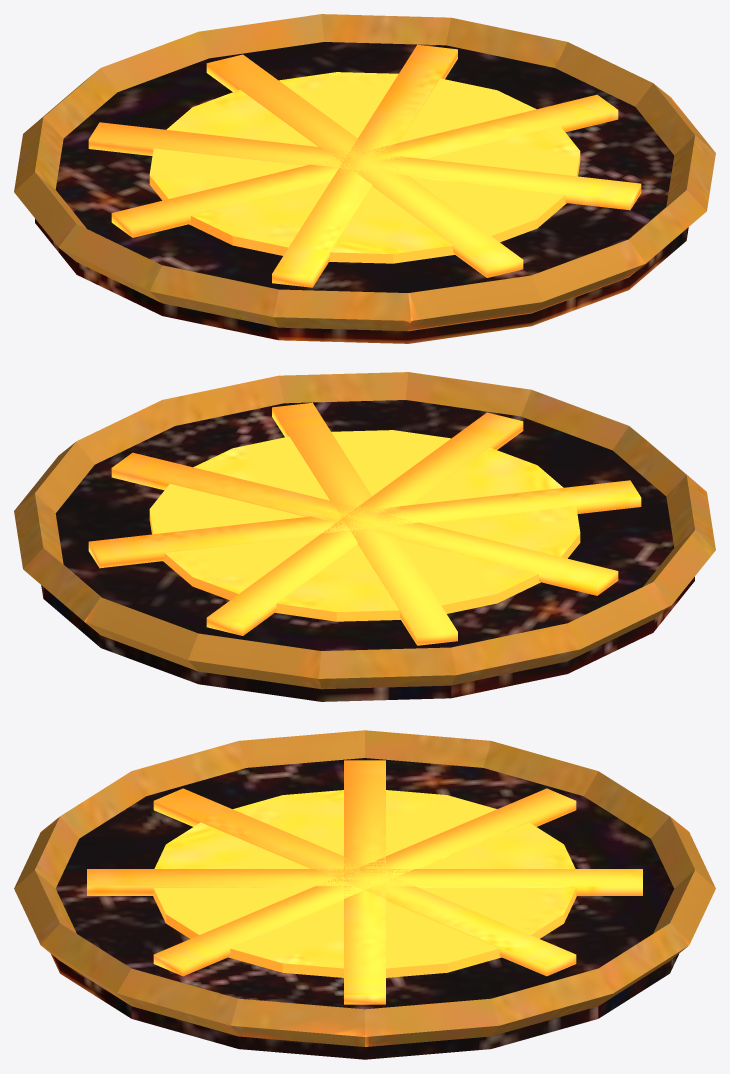
The model's file is pad_fire.glb.
3 renders of one model, top to bottom at view 1: azimuth 30°, elevation 25°; view 2: azimuth 150°, elevation 25°; view 3: azimuth 270°, elevation 25°, orthographic.
Parts seen in each view (by area): view 1: pad_fire; view 2: pad_fire; view 3: pad_fire.
Boxes of the visible parts, x1,y1,x2,y2 form: pad_fire: (14, 14, 715, 343); pad_fire: (14, 372, 715, 701); pad_fire: (14, 730, 715, 1059).
Size of the model in its own units: 2.02 by 0.16 by 2.02.
Materials: 1 (1 with a texture image).
